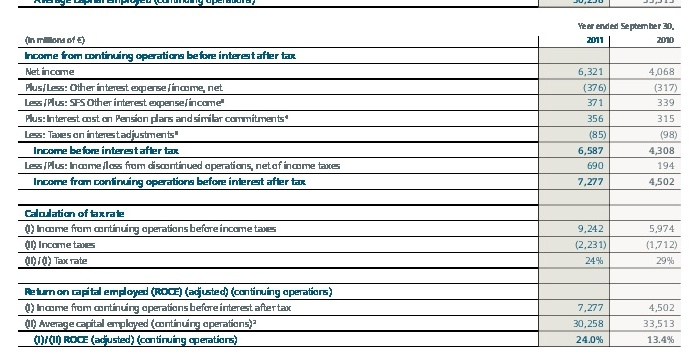table: (0, 0, 699, 361)
